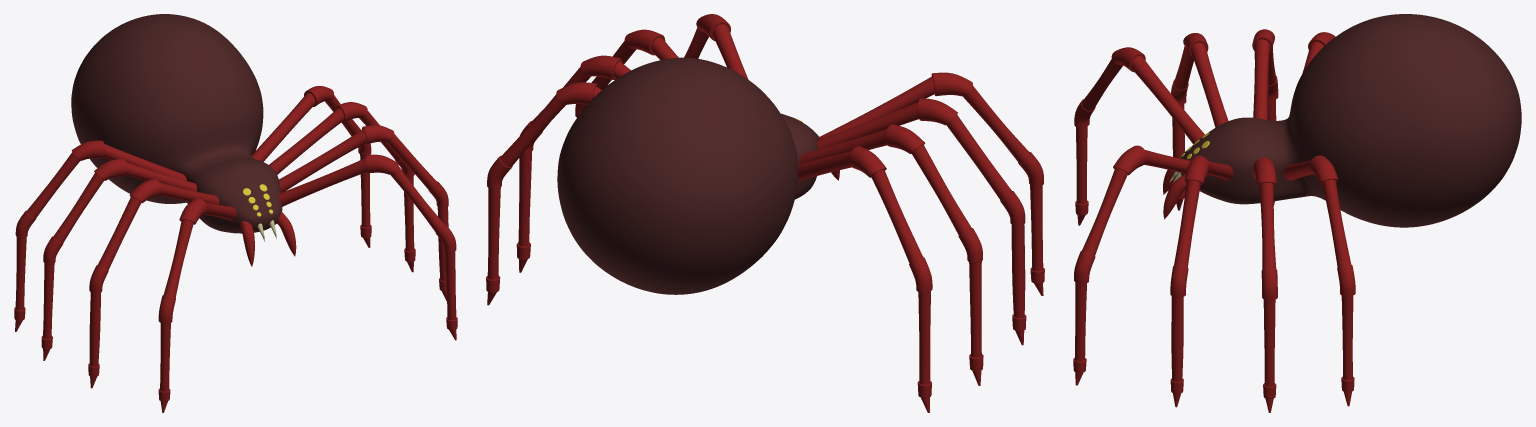
File: spider_model.fbx
The picture shows the model from 3 angles, left to right: view 1: azimuth 30°, elevation 25°; view 2: azimuth 150°, elevation 25°; view 3: azimuth 270°, elevation 25°; orthographic projection. The views are drawn at different scales.
Parts seen in each view (by area): view 1: torso, leg_1, leg_2, leg_3, leg_4, leg_8, leg_7, leg_6, leg_6_2, leg_5_2, leg_7_2, leg_1_2 (+14 smaller); view 2: torso, leg_6, leg_5, leg_7, leg_8, leg_8_2, leg_6_2, leg_7_2, leg_1, leg_5_2, leg_6_4, leg_4_2 (+12 smaller); view 3: torso, leg_5, leg_6, leg_7, leg_1, leg_2_2, leg_1_2, leg_4_2, leg_3_2, leg_2_4, leg_3_4, leg_4 (+14 smaller).
Part boxes in pixels (x1,y1,x2,y2): torso: (71,14,282,233); leg_1: (278,154,398,206); leg_2: (279,125,394,192); leg_3: (269,102,367,174); leg_4: (251,86,333,161); leg_8: (71,140,186,180); leg_7: (94,158,196,191); leg_6: (129,179,219,204); leg_6_2: (97,196,141,270); leg_5_2: (163,219,193,297); leg_7_2: (53,173,103,243); leg_1_2: (390,166,445,232); torso: (557,57,819,294); leg_6: (817,98,957,149); leg_5: (819,72,972,138); leg_7: (799,124,925,163); leg_8: (798,146,886,180); leg_8_2: (871,169,922,263); leg_6_2: (946,115,1012,200); leg_7_2: (911,144,971,235); leg_1: (696,14,748,79); leg_5_2: (963,86,1030,163); leg_6_4: (1011,224,1025,318); leg_4_2: (500,94,565,167); torso: (1181,14,1521,227); leg_5: (1111,47,1204,144); leg_6: (1183,33,1228,127); leg_7: (1252,29,1274,119); leg_1: (1113,145,1207,177); leg_2_2: (1174,180,1200,267); leg_1_2: (1082,168,1127,255); leg_4_2: (1322,179,1351,266); leg_3_2: (1259,182,1276,269); leg_2_4: (1171,296,1183,381); leg_3_4: (1263,299,1275,386); leg_4: (1283,155,1338,184).
Size of the model in its own units: 9.82 by 6.33 by 8.99.
